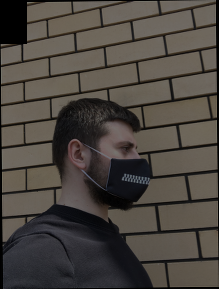with_mask: (104, 137, 151, 211)
